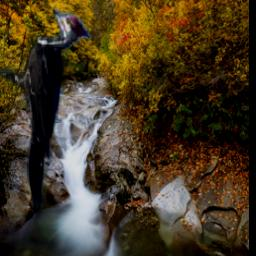Woodpecker: (0, 7, 91, 211)
